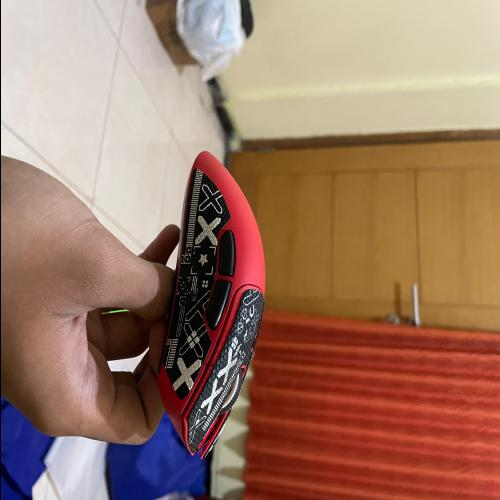mouse: (150, 134, 282, 465)
